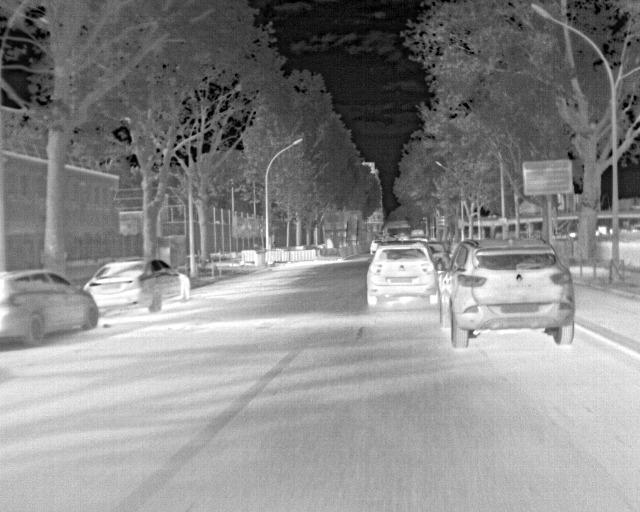car: (433, 239, 575, 348), (0, 268, 99, 345), (83, 258, 190, 319), (367, 240, 443, 305), (427, 242, 451, 269), (370, 240, 383, 254), (398, 234, 408, 241)
light: (441, 216, 446, 226)
sign: (522, 159, 572, 196), (525, 223, 535, 233), (458, 219, 464, 229)
